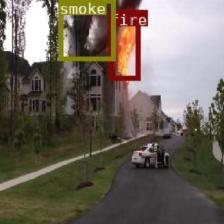fire: (108, 9, 140, 80)
smoke: (58, 0, 114, 60)
